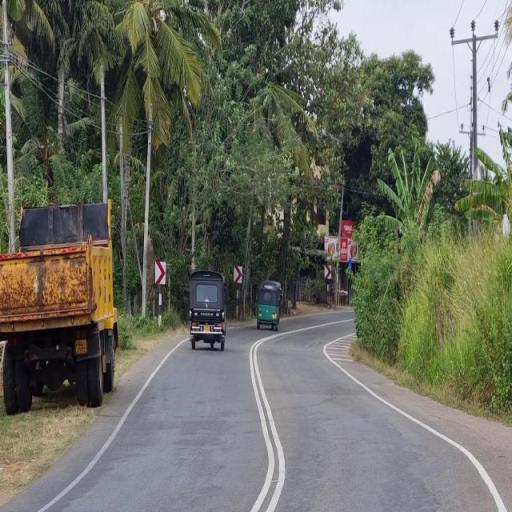double_white_line: (245, 332, 290, 512)
